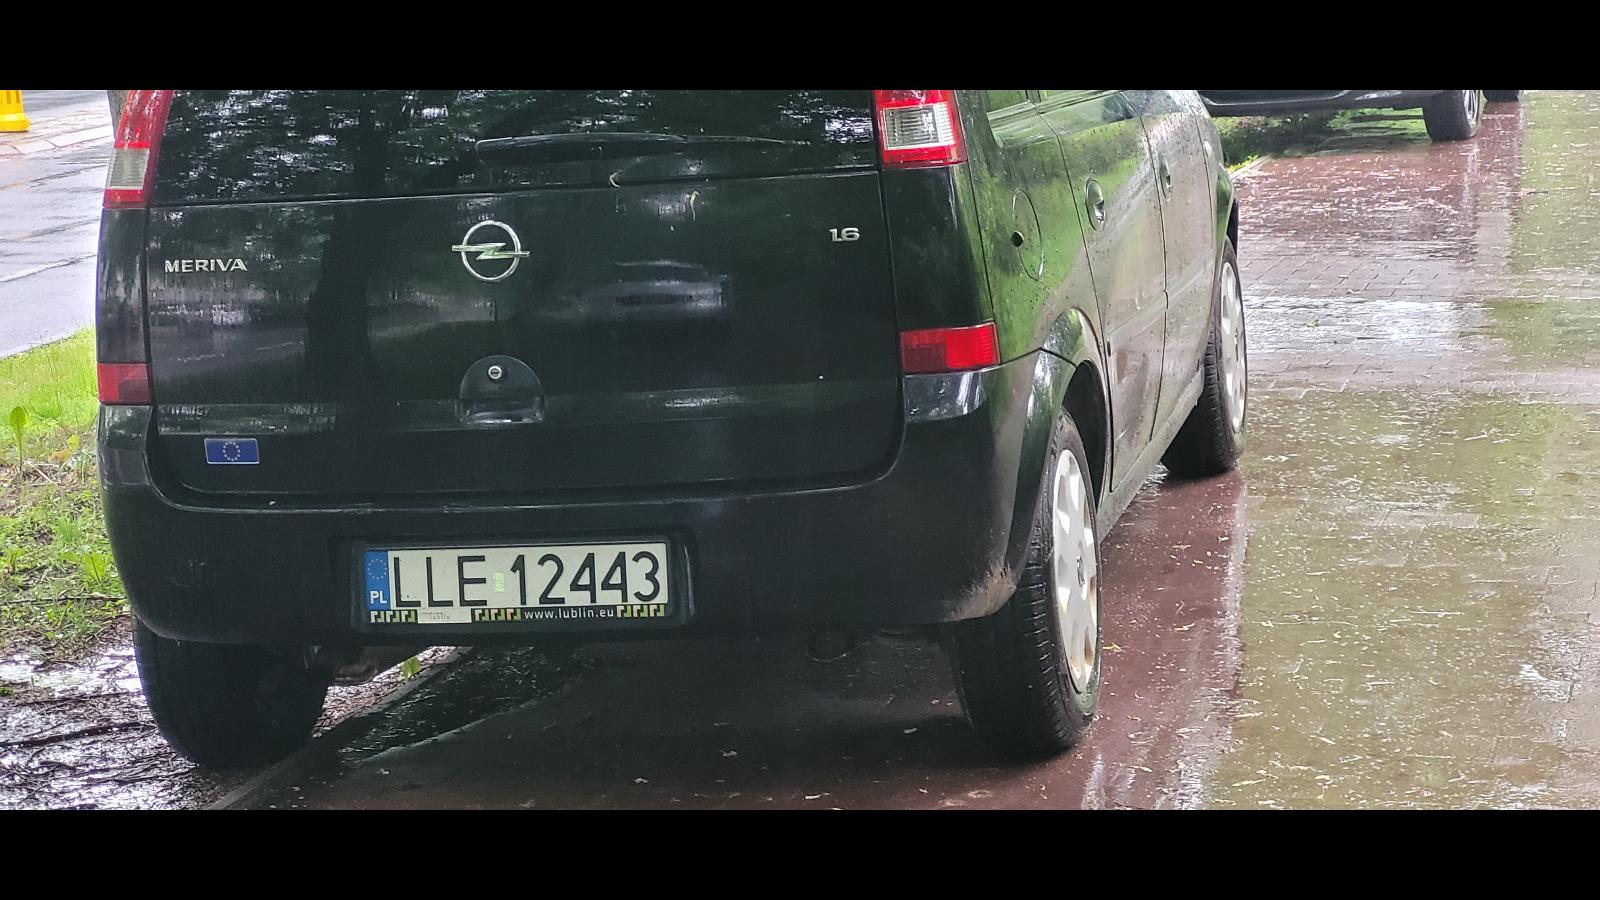plates: (358, 538, 672, 622)
